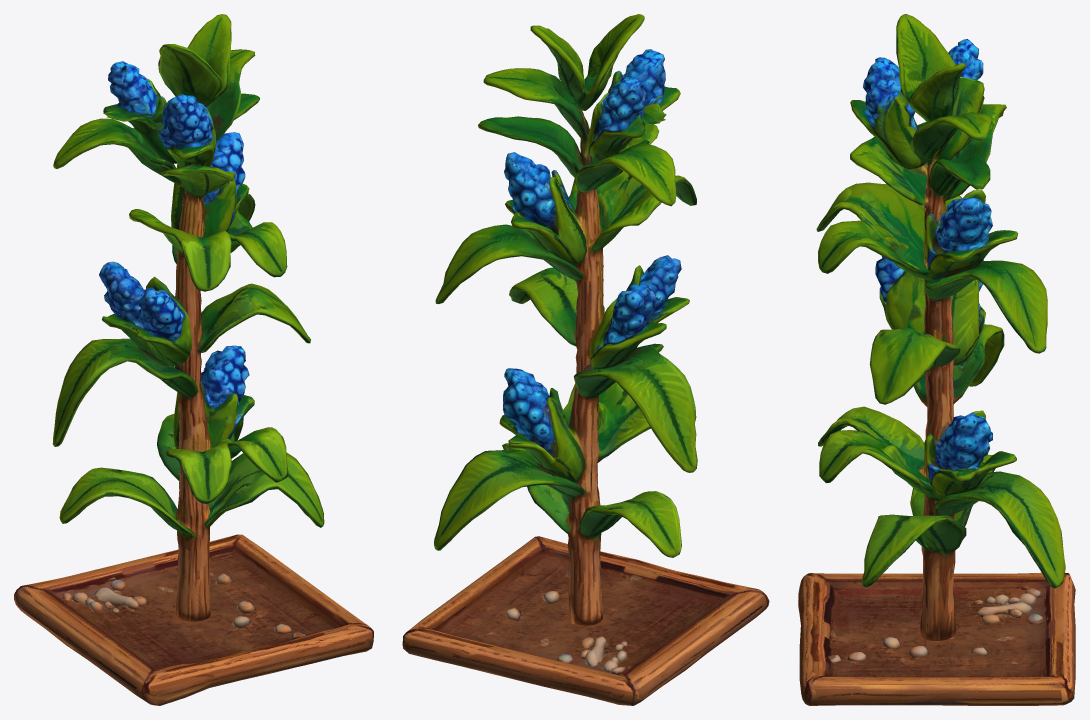
File: blueberry.glb
3 renders of one model, left to right at view 1: azimuth 30°, elevation 25°; view 2: azimuth 150°, elevation 25°; view 3: azimuth 270°, elevation 25°, orthographic.
Size of the model in its own units: 0.7906 by 1.91 by 0.775.
Materials: 1 (1 with a texture image).
